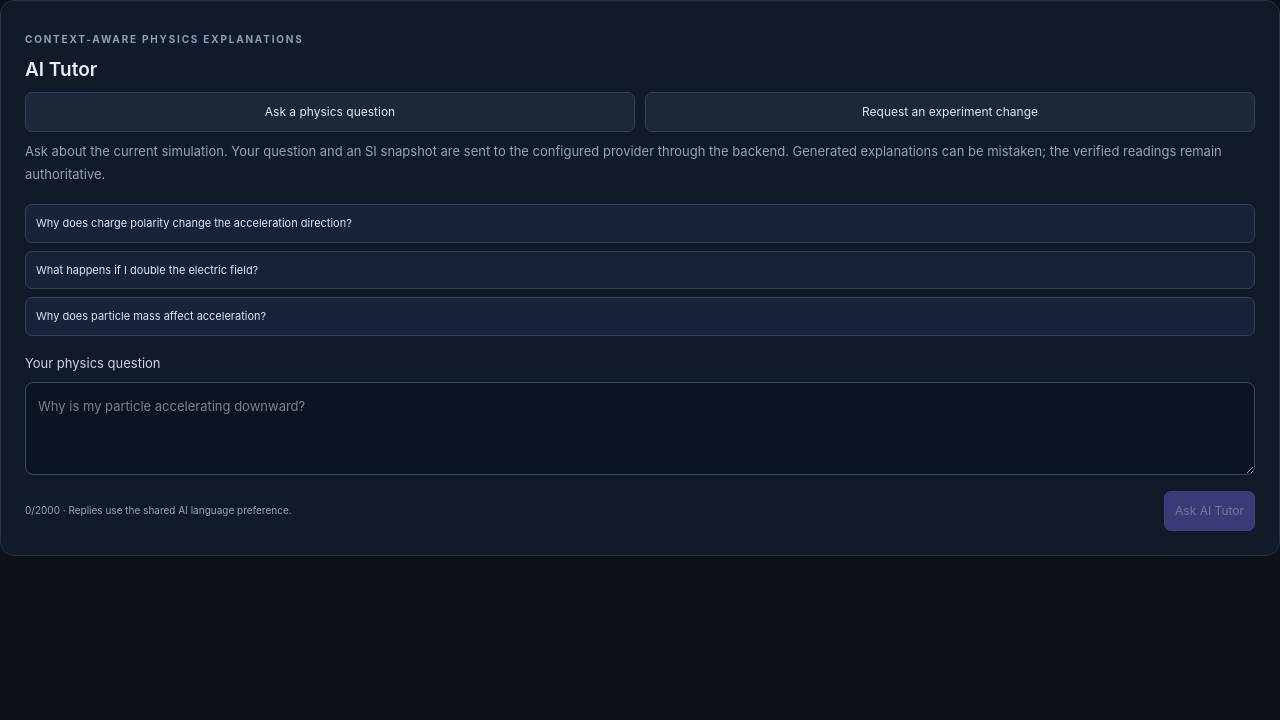
context-aware tutor form › selects a suggestion without sending a request
This screenshot has width=1280, height=720.
Click the button "Why does charge polarity change the acceleration direction?" at (194, 223), box x1=25 y1=204 x2=1255 y2=243
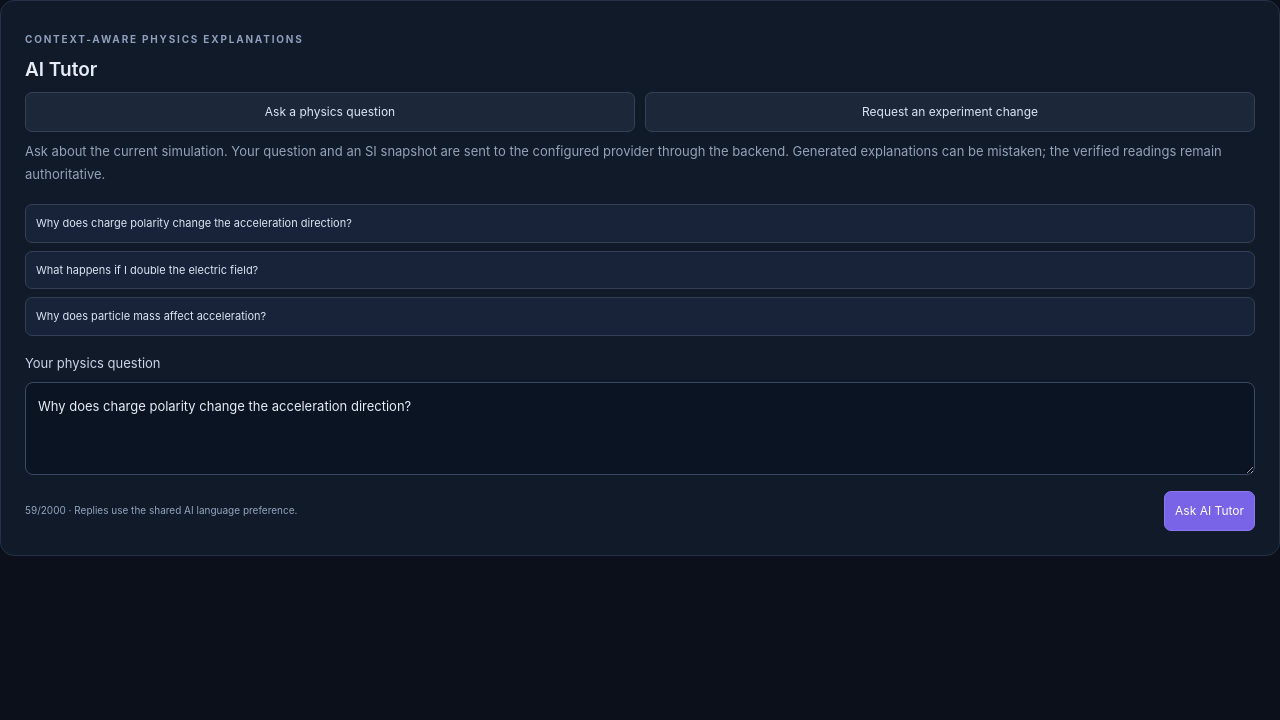
Result: the text box labelled "Your physics question" holds "Why does charge polarity change the acceleration direction?" at x1=25 y1=382 x2=1255 y2=475
